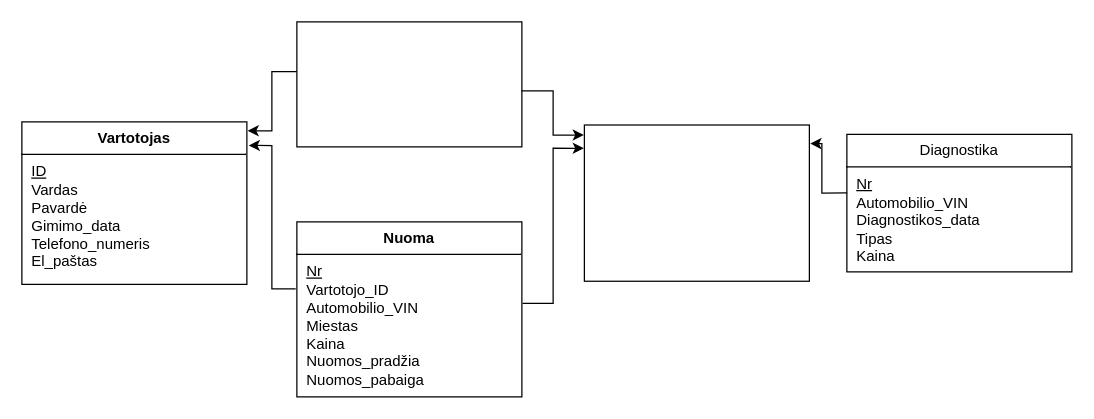
Some shapes in this 1094 by 419 pixel diagram are drawn without their labels. The centre of each missing label's shape, as x and y in pixels:
Automobilis VIN Markė Modelis Metai Kuro_tipas Kaina: point 696,202
Megstamas_automobilis Vartotojo_ID Automobilio_VIN Pridėjimo_data Įvertinimas: point 409,84
